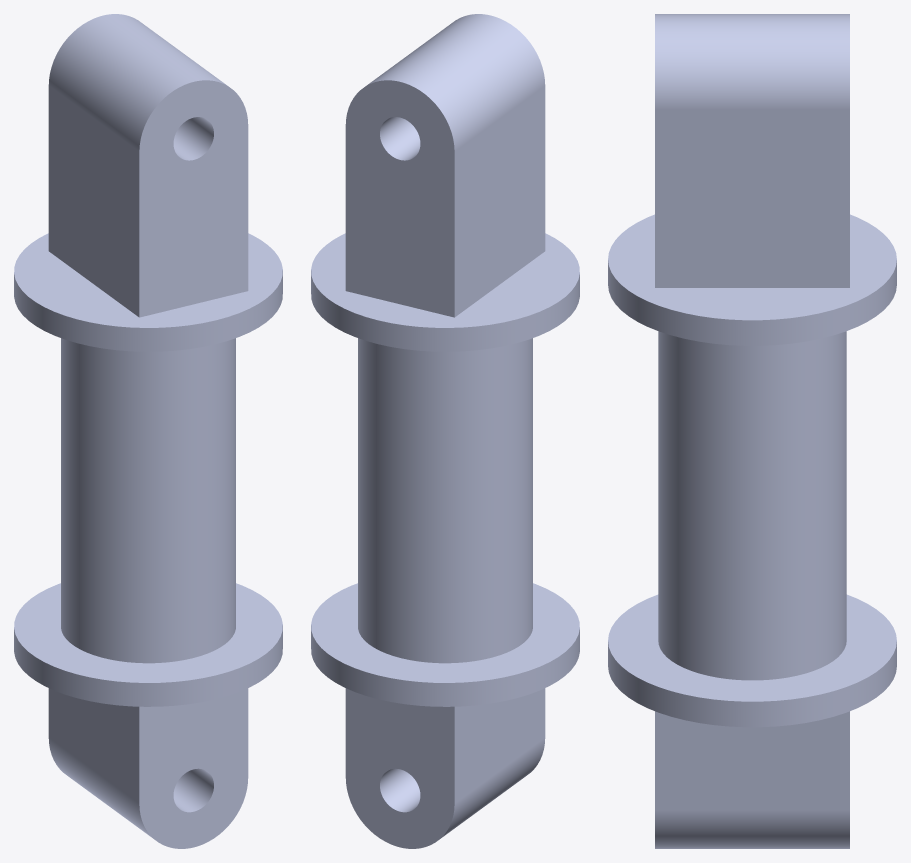
Rendered from _2025_Drivetrain_Tensioner_R1.obj.
3 views of the same model, side by side, from view 1: azimuth 30°, elevation 25°; view 2: azimuth 150°, elevation 25°; view 3: azimuth 270°, elevation 25° (orthographic). The views are drawn at different scales.
Visible parts, largest first — view 1: mesh16427, mesh16444, mesh16440, mesh16437, mesh16441, mesh16430, mesh16439, mesh16429, mesh16431, mesh16433, mesh16434, mesh16445 (+1 smaller); view 2: mesh16427, mesh16443, mesh16440, mesh16436, mesh16441, mesh16430, mesh16439, mesh16429, mesh16431, mesh16433, mesh16434, mesh16445 (+1 smaller); view 3: mesh16427, mesh16442, mesh16441, mesh16435, mesh16430, mesh16439, mesh16431, mesh16429, mesh16434.
Part boxes in pixels (x1,y1,x2,y2): mesh16427: (61, 338, 235, 663); mesh16444: (139, 80, 248, 317); mesh16440: (48, 86, 139, 316); mesh16437: (139, 688, 248, 848); mesh16441: (48, 14, 227, 151); mesh16430: (14, 583, 282, 682); mesh16439: (14, 233, 282, 327); mesh16429: (14, 270, 282, 351); mesh16431: (14, 625, 282, 706); mesh16433: (48, 688, 139, 803); mesh16434: (48, 738, 153, 838); mesh16445: (173, 117, 213, 160); mesh16427: (358, 338, 532, 663); mesh16443: (345, 80, 454, 317); mesh16440: (454, 86, 545, 316); mesh16436: (345, 688, 454, 848); mesh16441: (366, 14, 545, 151); mesh16430: (311, 583, 579, 682); mesh16439: (311, 233, 579, 327); mesh16429: (311, 270, 579, 351); mesh16431: (311, 625, 579, 706); mesh16433: (454, 688, 545, 803); mesh16434: (440, 738, 545, 838); mesh16445: (380, 117, 420, 160); mesh16427: (658, 331, 846, 680); mesh16442: (655, 110, 849, 287); mesh16441: (655, 14, 849, 109); mesh16435: (655, 711, 849, 809); mesh16430: (608, 594, 896, 701); mesh16439: (608, 214, 896, 320); mesh16431: (608, 642, 896, 727); mesh16429: (608, 260, 896, 345); mesh16434: (655, 810, 849, 848).
Bounding box in the file's own units: 0.0459 × 0.1445 × 0.046.
